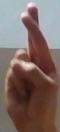R: (1, 0, 60, 132)
